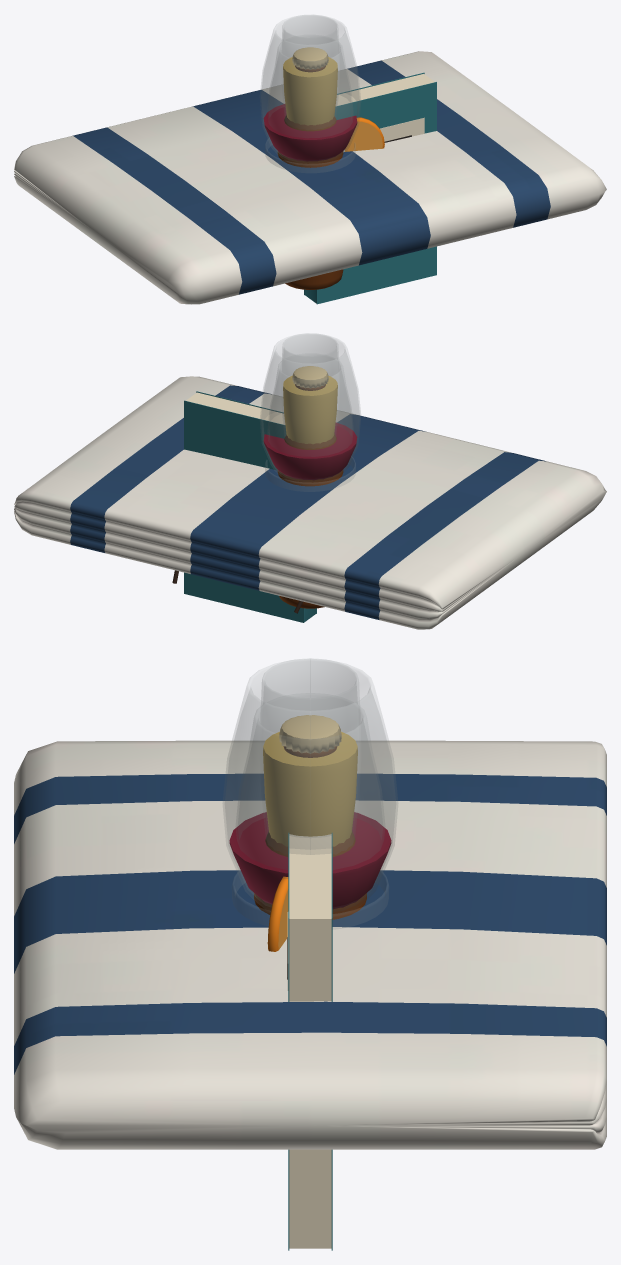
File: props.glb
The picture shows the model from 3 angles, top to bottom: view 1: azimuth 30°, elevation 25°; view 2: azimuth 150°, elevation 25°; view 3: azimuth 270°, elevation 25°; orthographic projection. The views are drawn at different scales.
Visible parts, largest first — view 1: prop:towel, prop:wine-red, prop:book, prop:wine-white, prop:flute, prop:beer, prop:tumbler; view 2: prop:towel, prop:wine-red, prop:book, prop:wine-white, prop:flute, prop:beer, prop:tumbler; view 3: prop:towel, prop:wine-red, prop:wine-white, prop:flute, prop:book, prop:beer, prop:tumbler.
Boxes of the visible parts, x1,y1,x2,y2 form: prop:towel: (14,51,606,304); prop:wine-red: (260,15,360,165); prop:book: (304,72,436,304); prop:wine-white: (268,35,352,162); prop:flute: (282,15,338,125); prop:beer: (277,47,343,289); prop:tumbler: (265,117,384,172); prop:towel: (14,376,606,629); prop:wine-red: (260,334,360,483); prop:book: (184,391,316,622); prop:wine-white: (268,354,352,481); prop:flute: (282,334,338,444); prop:beer: (277,366,343,608); prop:tumbler: (265,458,355,491); prop:towel: (14,740,606,1149); prop:wine-red: (223,659,397,915); prop:wine-white: (236,693,384,911); prop:flute: (261,658,359,846); prop:book: (287,833,332,1250); prop:beer: (254,715,366,919); prop:tumbler: (232,872,388,951).
Size of the model in its own units: 0.46 by 0.2807 by 0.32.
23 materials, 2 textured.
